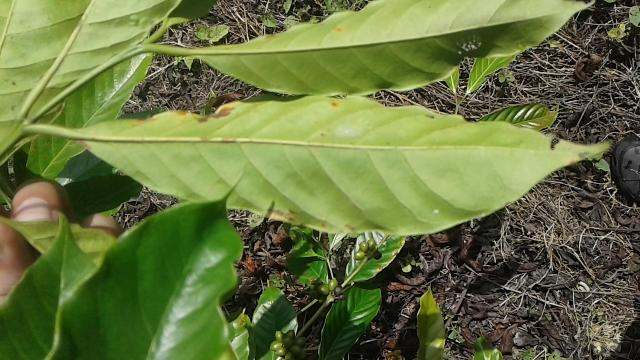rust_level_1: (74, 94, 615, 242)
